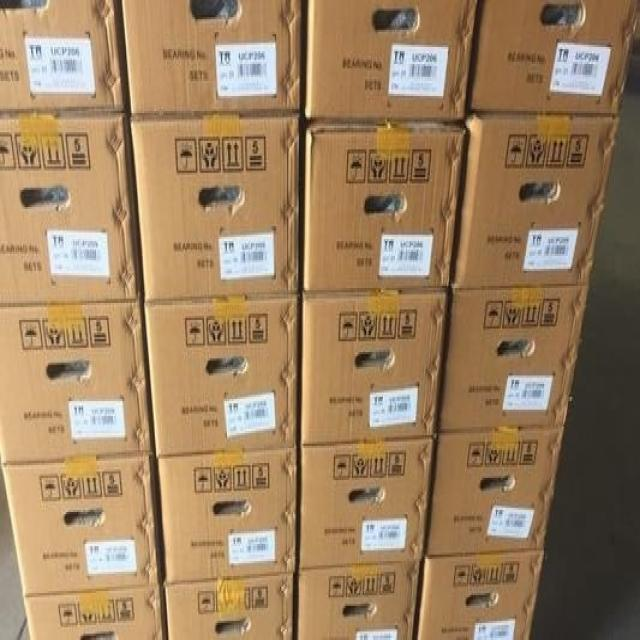box: (132, 114, 300, 304), (448, 120, 618, 292), (299, 121, 465, 294), (0, 298, 155, 464), (143, 295, 300, 456), (436, 286, 589, 435), (3, 456, 162, 597), (299, 294, 446, 444), (303, 2, 478, 121), (121, 2, 303, 113), (466, 3, 639, 118), (157, 446, 300, 585), (299, 436, 435, 570), (424, 427, 564, 557), (0, 3, 130, 114), (414, 551, 544, 638), (297, 560, 423, 638), (165, 574, 298, 638), (24, 582, 168, 638)
